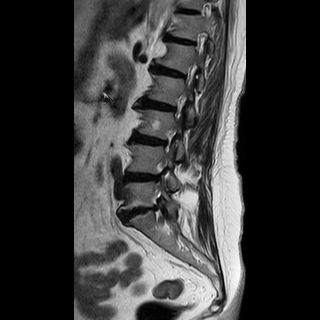LFS0: (178, 59, 200, 90), (169, 90, 189, 124)
